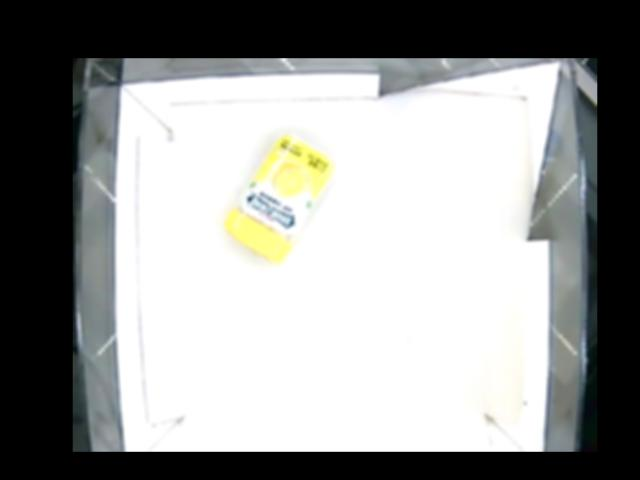Bottle: (227, 132, 334, 266)
